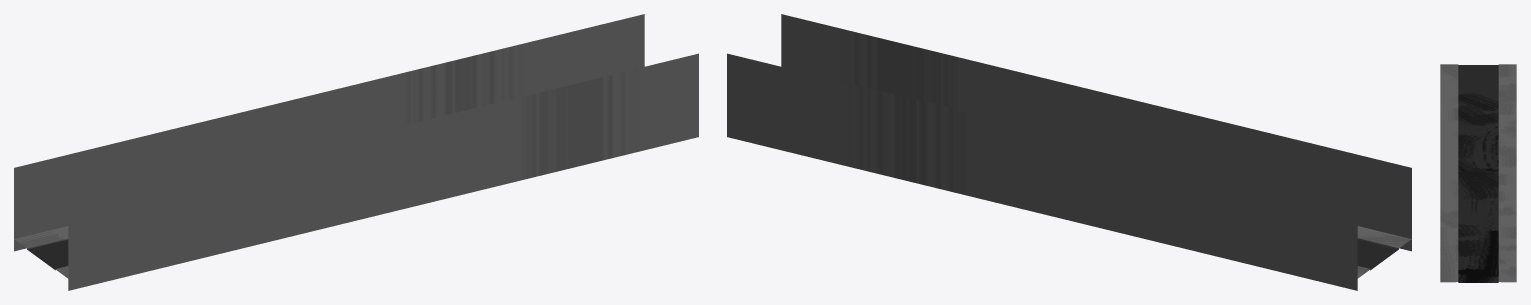
File: Street.fbx
The picture shows the model from 3 angles, left to right: view 1: azimuth 30°, elevation 25°; view 2: azimuth 150°, elevation 25°; view 3: azimuth 270°, elevation 25°; orthographic projection. The views are drawn at different scales.
Visible parts, largest first — view 1: Cube.001, Cube; view 2: Cube.001, Cube; view 3: Cube.
Part boxes in pixels (box(x1,y1,x2,y2)): Cube.001: box(14, 14, 698, 290); Cube: box(14, 226, 68, 278); Cube.001: box(727, 14, 1411, 290); Cube: box(1357, 226, 1411, 278); Cube: box(1440, 64, 1516, 282).
Bounding box in the file's own units: 172270 × 21810 × 25565.
